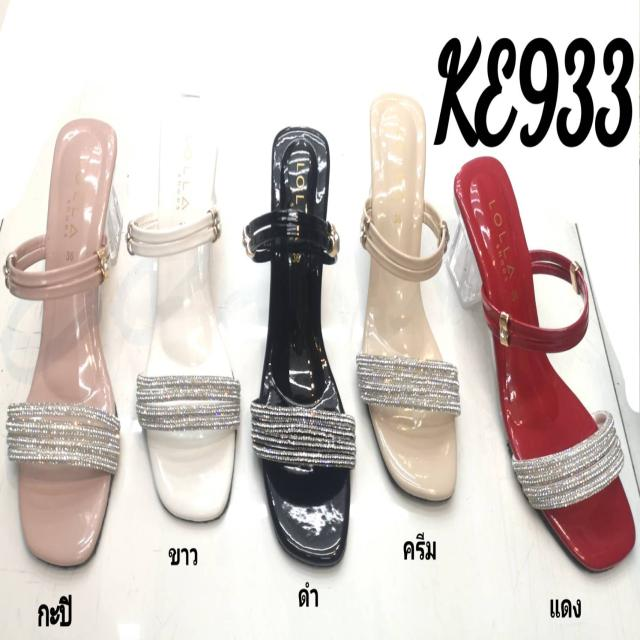black: (257, 130, 348, 564)
cream: (364, 91, 456, 495)
kapi: (17, 114, 122, 574)
red: (457, 147, 630, 565)
white: (142, 108, 238, 520)
